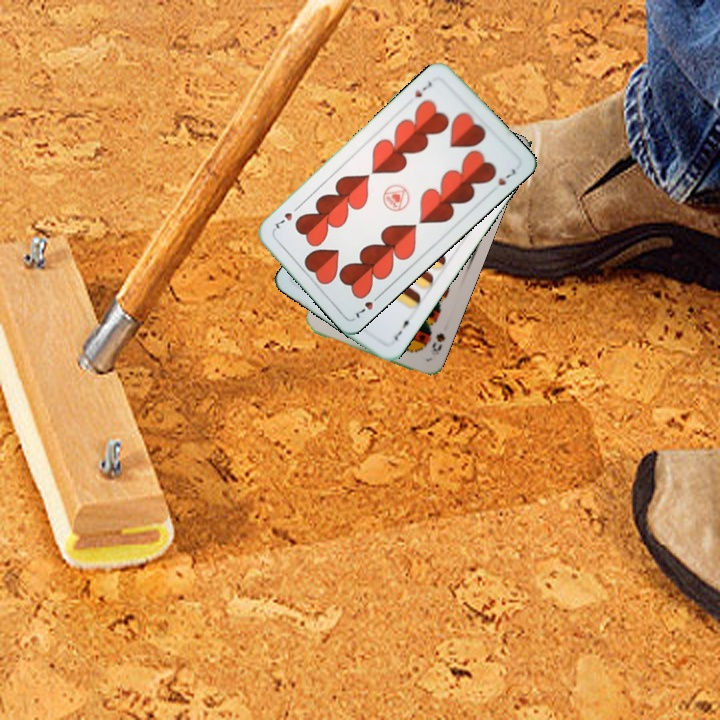E7: (390, 313, 415, 343)
H7: (352, 290, 384, 321), (411, 77, 435, 100)
S8: (427, 329, 448, 357)
